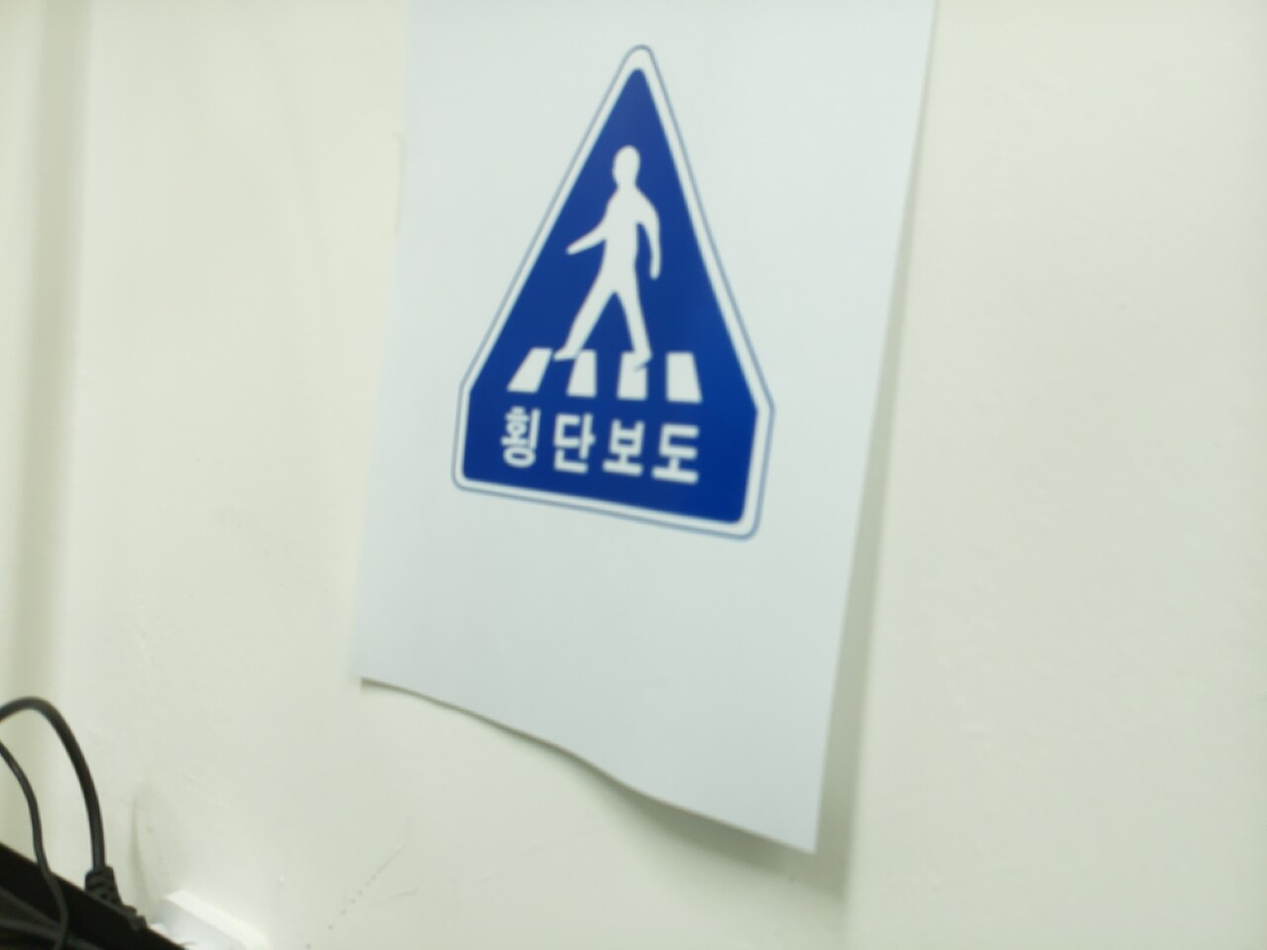crosswalk: (452, 55, 767, 536)
